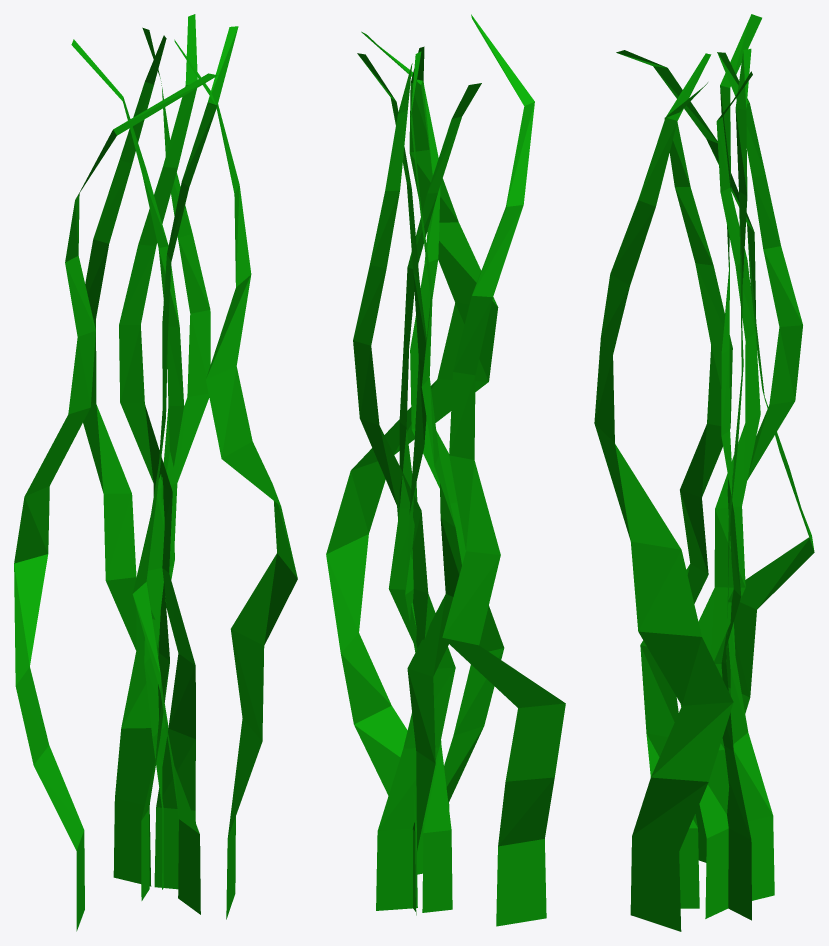
The model's file is my_mesh_Algae3.glb.
3 renders of one model, left to right at view 1: azimuth 30°, elevation 25°; view 2: azimuth 150°, elevation 25°; view 3: azimuth 270°, elevation 25°, orthographic.
Visible parts, largest first — view 1: Algae3; view 2: Algae3; view 3: Algae3.
Part boxes in pixels (x1,y1,x2,y2): Algae3: (14, 14, 297, 931); Algae3: (326, 14, 565, 926); Algae3: (594, 14, 814, 931).
Bounding box in the file's own units: 0.596 × 1.94 × 0.4529.
Materials: 1 (1 with a texture image).
